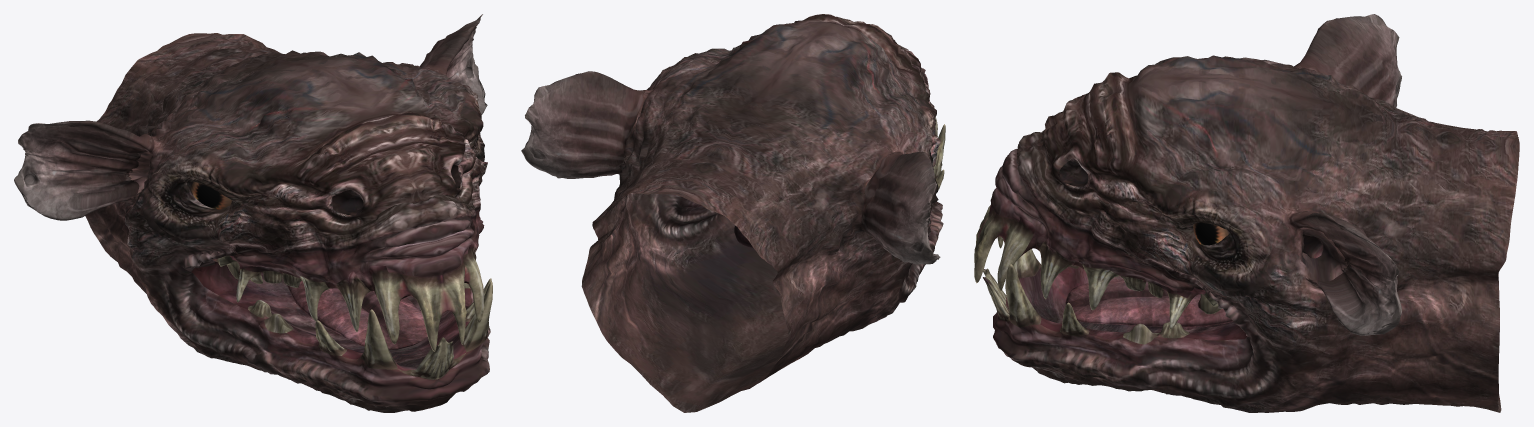
File: Monster.FBX
3 views of the same model, side by side, from view 1: azimuth 30°, elevation 25°; view 2: azimuth 150°, elevation 25°; view 3: azimuth 270°, elevation 25° (orthographic). The views are drawn at different scales.
Parts seen in each view (by area): view 1: objBox01_1, Sphere01; view 2: objBox01_1; view 3: objBox01_1, Sphere02.
Part boxes in pixels (x1=…): objBox01_1: x1=14, y1=14, x2=492, y2=412; Sphere01: x1=190, y1=181, x2=233, y2=209; objBox01_1: x1=521, y1=14, x2=945, y2=412; objBox01_1: x1=974, y1=14, x2=1519, y2=412; Sphere02: x1=1193, y1=222, x2=1229, y2=245.
Size of the model in its own units: 573 by 557 by 376.
